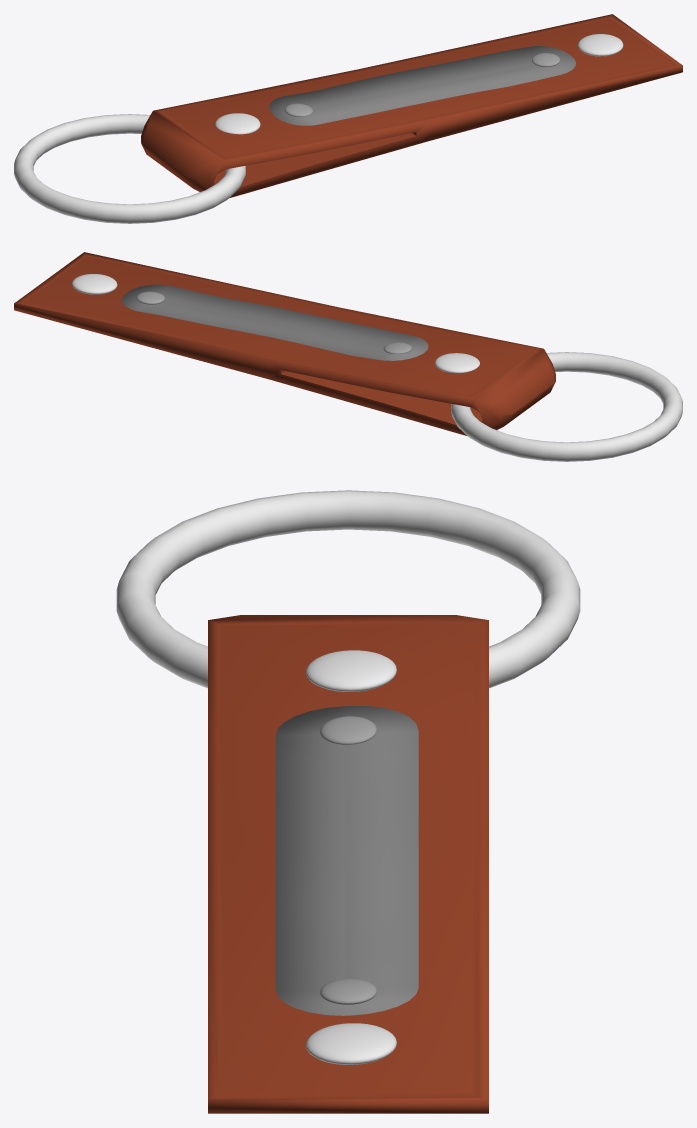
The model's file is keychain2.gltf.
3 views of the same model, one above another, from view 1: azimuth 30°, elevation 25°; view 2: azimuth 150°, elevation 25°; view 3: azimuth 270°, elevation 25° (orthographic). The views are drawn at different scales.
Visible parts, largest first — view 1: Cube.001; view 2: Cube.001; view 3: Cube.001.
Part boxes in pixels (x1,y1,x2,y2): Cube.001: (14, 14, 682, 223); Cube.001: (14, 252, 682, 461); Cube.001: (116, 490, 580, 1113).
Bounding box in the file's own units: 4.1 × 0.2646 × 1.33.
